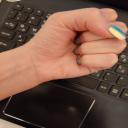Fist: (30, 6, 128, 80)
